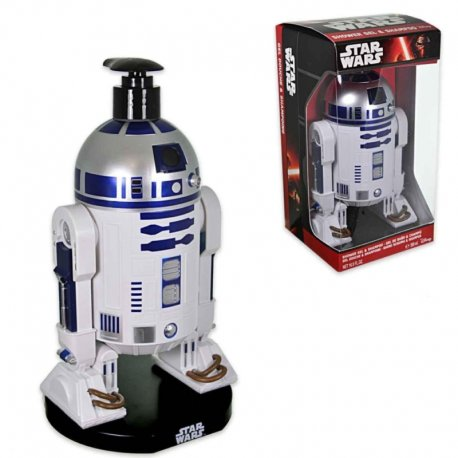r2d2: (51, 118, 237, 415), (312, 78, 415, 229)
